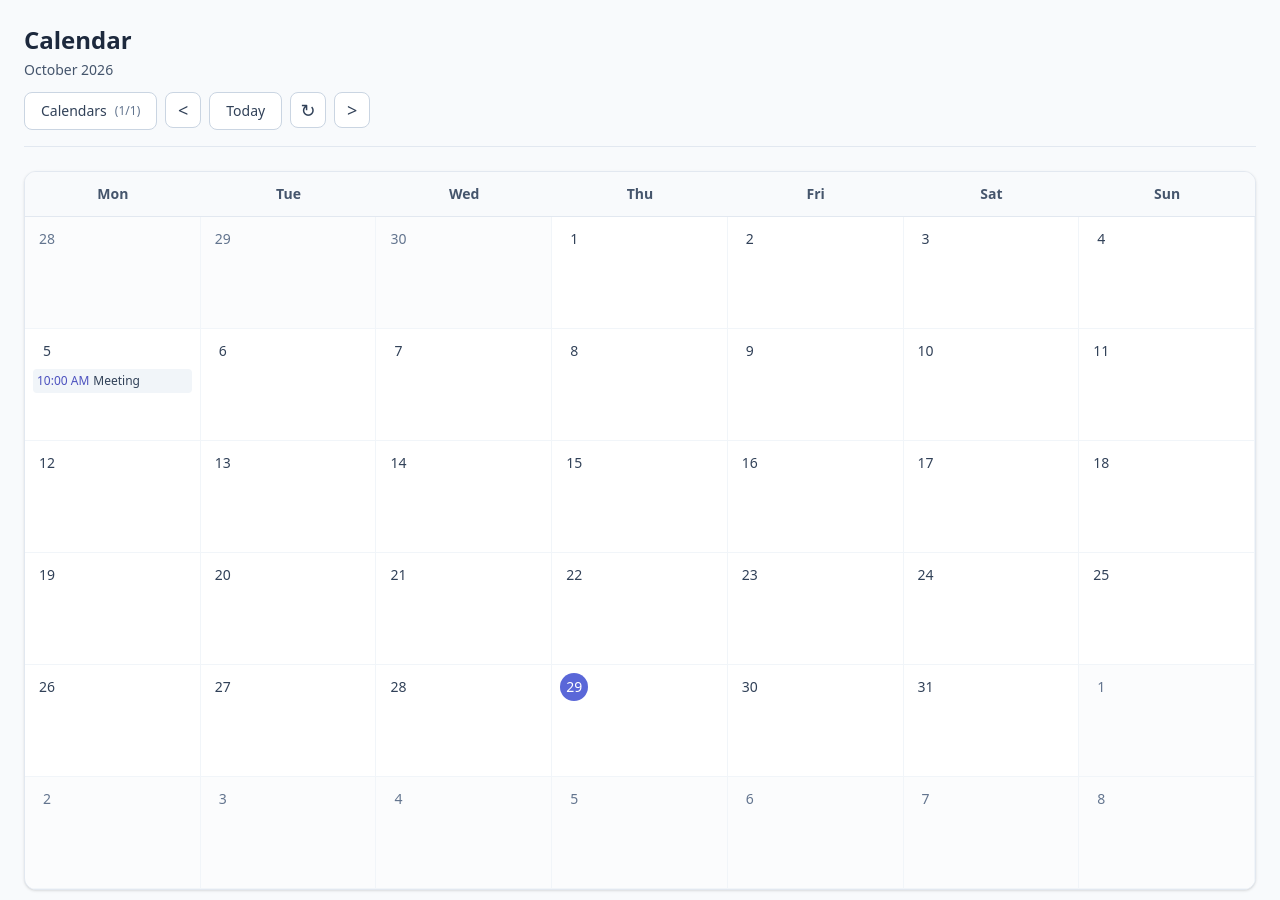
Test: Calendar › shows an attendee popup with person details on attendee click
What coordinates should you click on to do the following:
click the text "Meeting"
I would click on:
 (117, 380)
Its box is x1=93 y1=372 x2=140 y2=389.
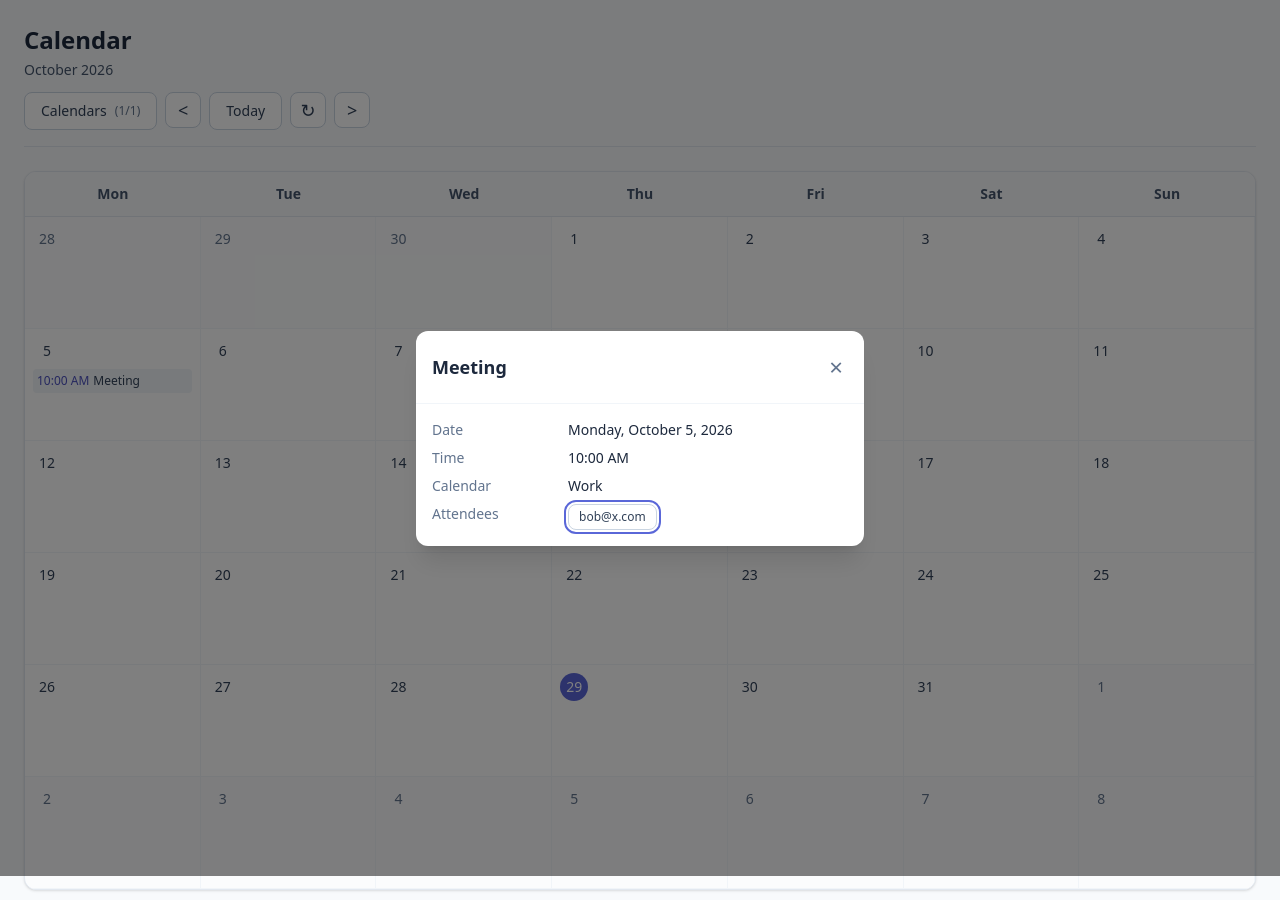
What coordinates should you click on to do the following:
click the button "bob@x.com"
I would click on:
 (612, 516)
Its box is x1=568 y1=504 x2=657 y2=530.
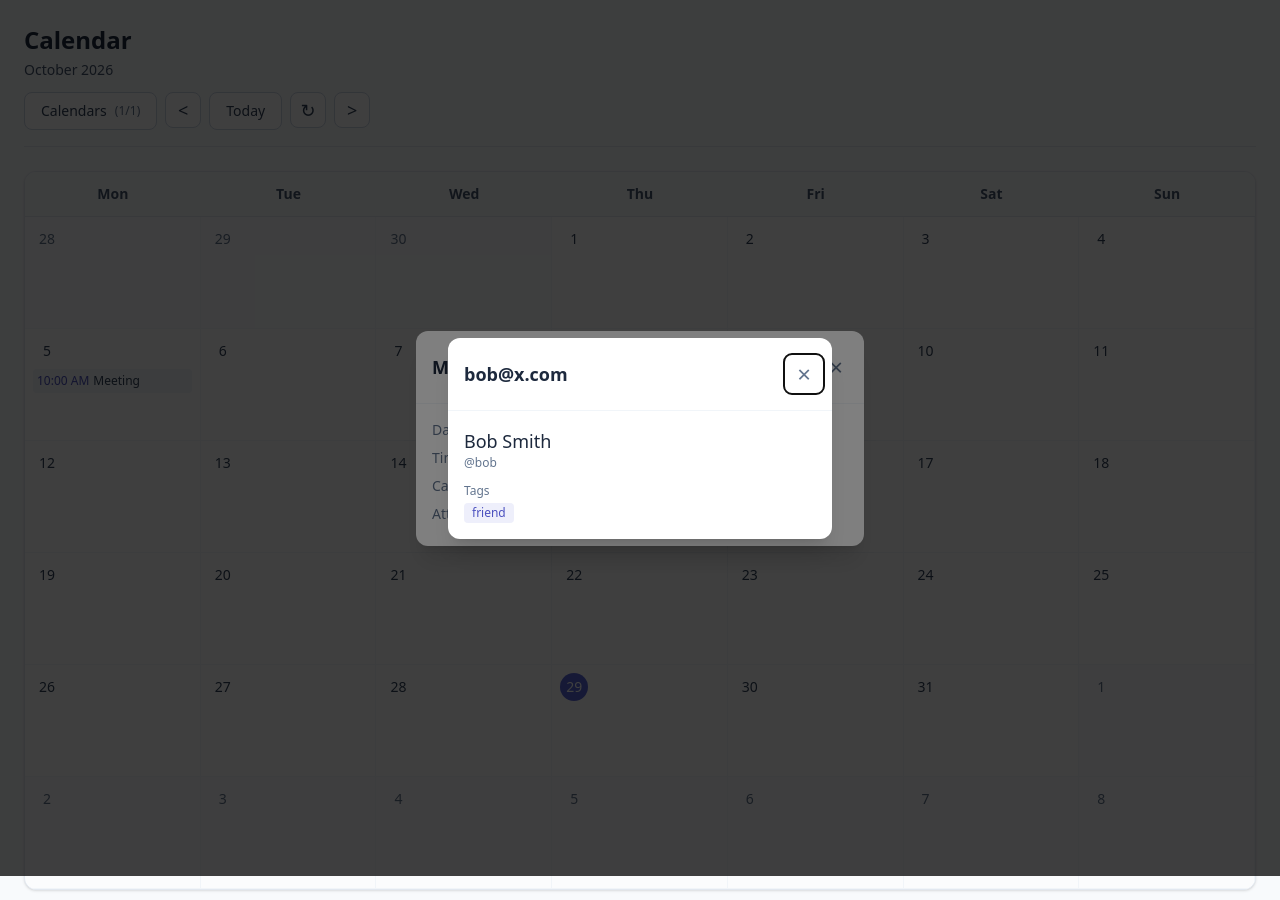
Result: the text "Bob Smith" is shown at x1=464 y1=428 x2=551 y2=452
